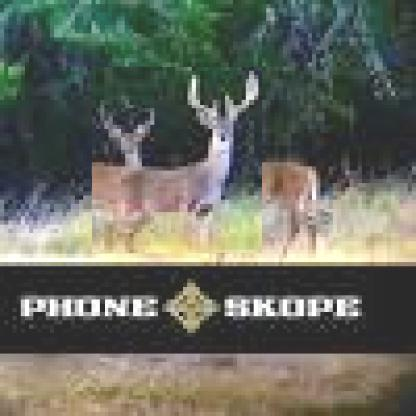Deer: (92, 67, 262, 253), (195, 102, 331, 262)
